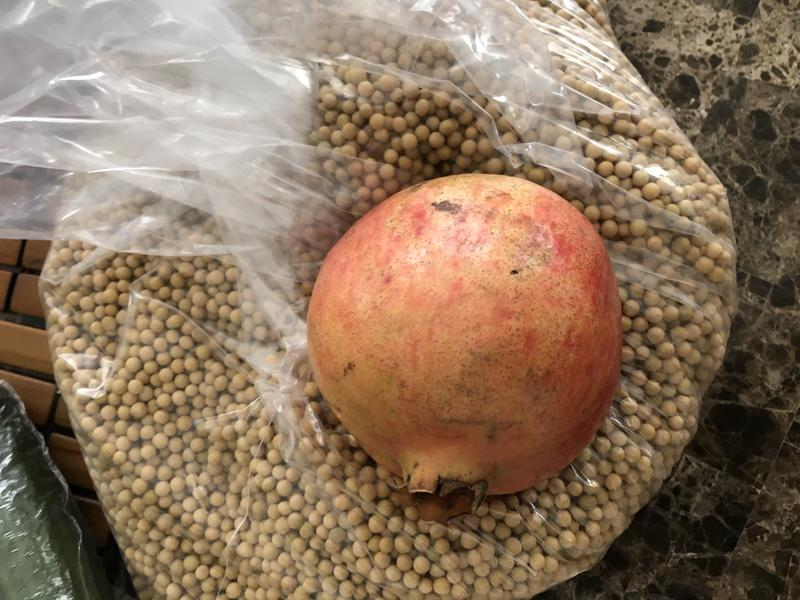pomegranate: (298, 157, 628, 533)
